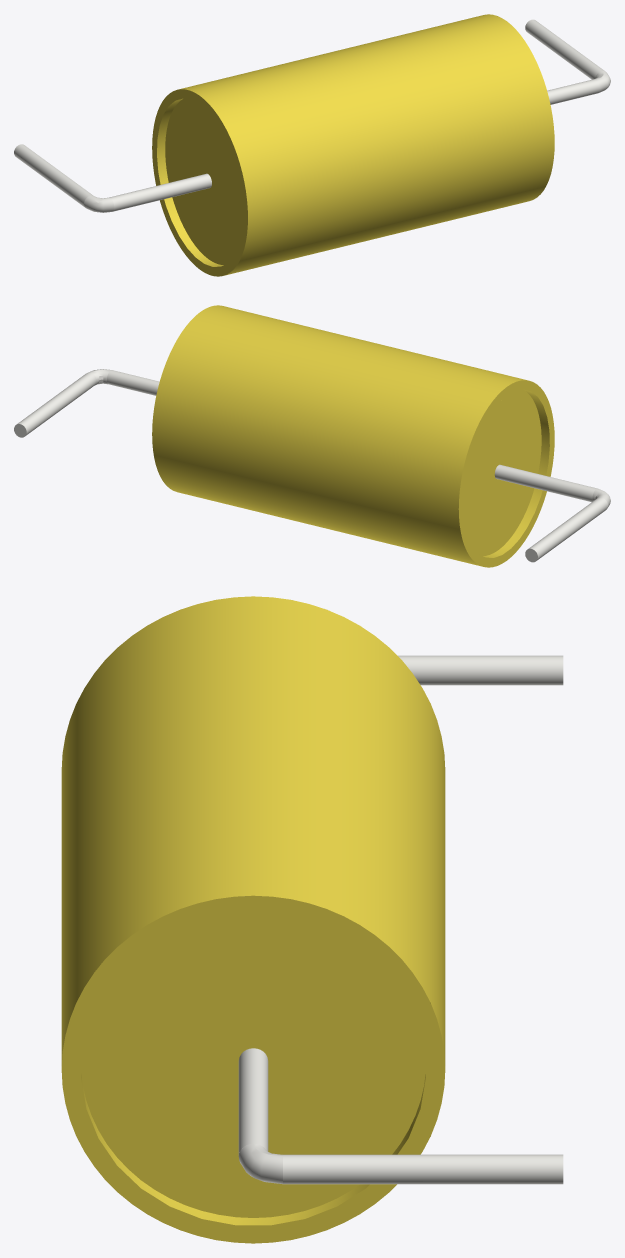
The model's file is C_Axial_L12.0mm_D6.5mm_P20.00mm_Horizontal.glb.
3 views of the same model, one above another, from view 1: azimuth 30°, elevation 25°; view 2: azimuth 150°, elevation 25°; view 3: azimuth 270°, elevation 25° (orthographic). The views are drawn at different scales.
Parts seen in each view (by area): view 1: Shape_IndexedFaceSet, Shape_IndexedFaceSet.005, Shape_IndexedFaceSet.001, Shape_IndexedFaceSet.010, Shape_IndexedFaceSet.003, Shape_IndexedFaceSet.008, Shape_IndexedFaceSet.012, Shape_IndexedFaceSet.009; view 2: Shape_IndexedFaceSet, Shape_IndexedFaceSet.005, Shape_IndexedFaceSet.001, Shape_IndexedFaceSet.010, Shape_IndexedFaceSet.003, Shape_IndexedFaceSet.012, Shape_IndexedFaceSet.008; view 3: Shape_IndexedFaceSet, Shape_IndexedFaceSet.006, Shape_IndexedFaceSet.002, Shape_IndexedFaceSet.012, Shape_IndexedFaceSet.008, Shape_IndexedFaceSet.010, Shape_IndexedFaceSet.004, Shape_IndexedFaceSet.011.
Boxes of the visible parts, x1=… form: Shape_IndexedFaceSet: x1=178, y1=14, x2=554, y2=275; Shape_IndexedFaceSet.005: x1=165, y1=98, x2=243, y2=264; Shape_IndexedFaceSet.001: x1=152, y1=89, x2=247, y2=276; Shape_IndexedFaceSet.010: x1=109, y1=79, x2=599, y2=211; Shape_IndexedFaceSet.003: x1=157, y1=98, x2=223, y2=266; Shape_IndexedFaceSet.008: x1=14, y1=144, x2=93, y2=207; Shape_IndexedFaceSet.012: x1=525, y1=19, x2=604, y2=79; Shape_IndexedFaceSet.009: x1=84, y1=195, x2=114, y2=212; Shape_IndexedFaceSet: x1=152, y1=305, x2=526, y2=566; Shape_IndexedFaceSet.005: x1=463, y1=389, x2=541, y2=555; Shape_IndexedFaceSet.001: x1=458, y1=380, x2=554, y2=567; Shape_IndexedFaceSet.010: x1=107, y1=370, x2=597, y2=502; Shape_IndexedFaceSet.003: x1=483, y1=389, x2=549, y2=557; Shape_IndexedFaceSet.012: x1=17, y1=372, x2=96, y2=435; Shape_IndexedFaceSet.008: x1=528, y1=497, x2=607, y2=560; Shape_IndexedFaceSet: x1=61, y1=596, x2=445, y2=1136; Shape_IndexedFaceSet.006: x1=81, y1=913, x2=425, y2=1217; Shape_IndexedFaceSet.002: x1=61, y1=895, x2=445, y2=1243; Shape_IndexedFaceSet.012: x1=283, y1=1154, x2=563, y2=1184; Shape_IndexedFaceSet.008: x1=398, y1=655, x2=563, y2=685; Shape_IndexedFaceSet.010: x1=238, y1=1048, x2=268, y2=1155; Shape_IndexedFaceSet.004: x1=81, y1=1074, x2=425, y2=1225; Shape_IndexedFaceSet.011: x1=238, y1=1143, x2=282, y2=1184.
Bounding box in the file's own units: 8.07 × 2.56 × 3.35.
